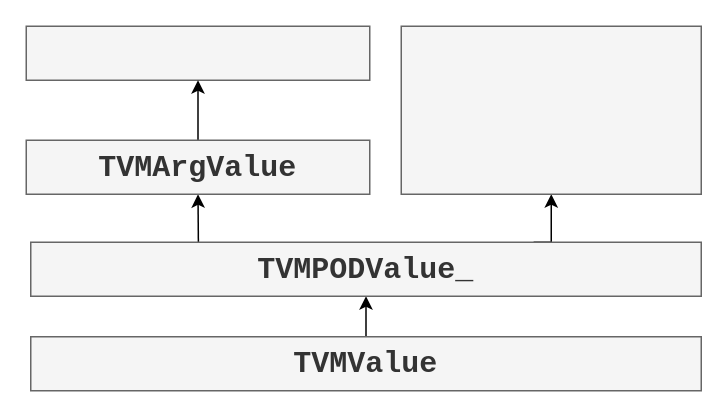
Image size: 728x417. Some labels were removed from this diagram. The centre of each missing label's shape, as x and y in pixels:
TVMArgs: (197,52)
TVMRetValue: (550,109)
